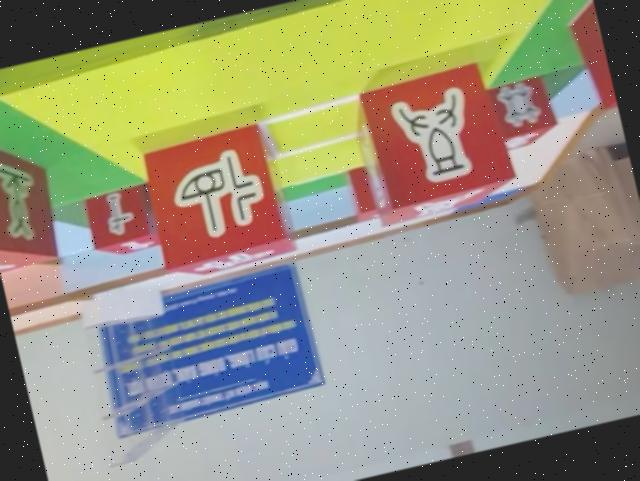R2 Real: (342, 55, 522, 230), (133, 117, 303, 288), (0, 116, 71, 276), (466, 71, 563, 158), (553, 0, 618, 117), (78, 178, 168, 262)
